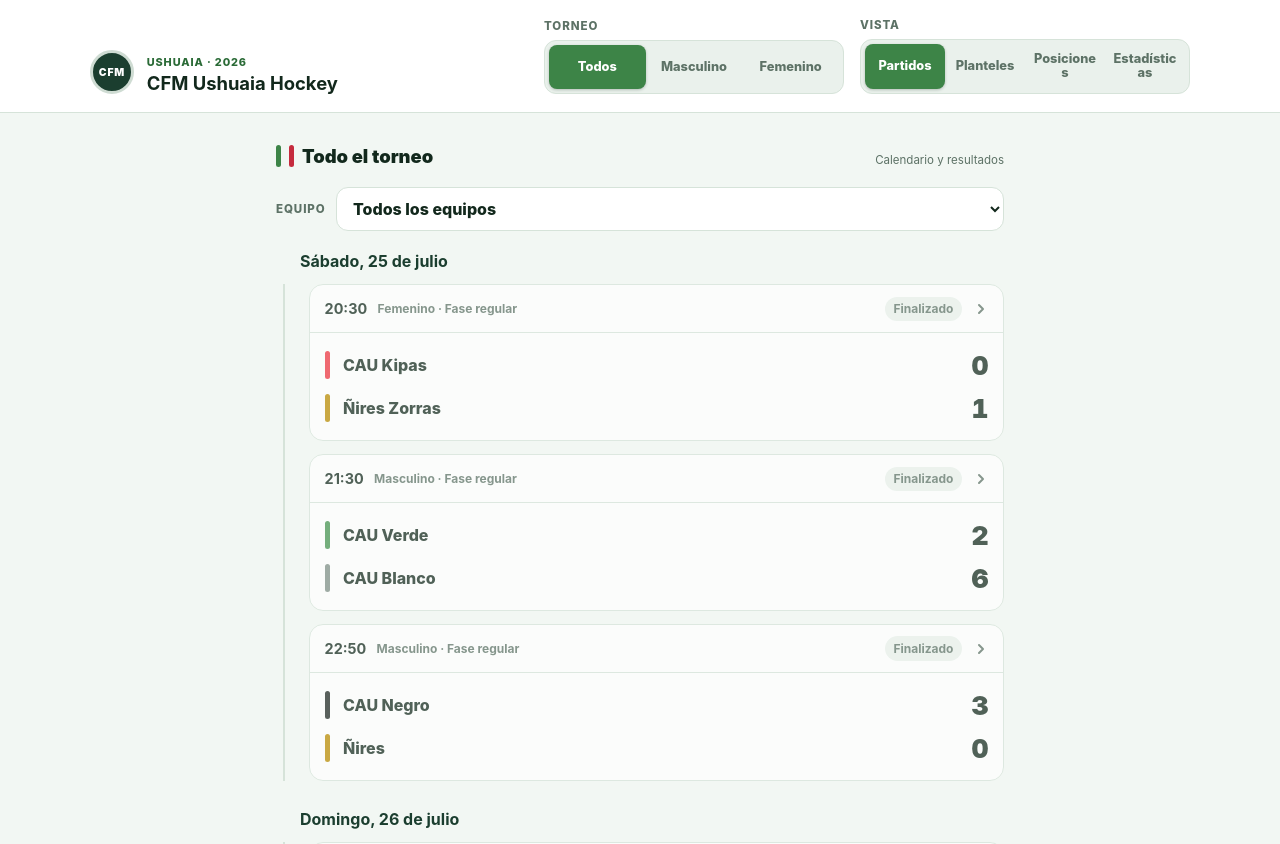
Test: App › when a single tournament is selected › should drop the tournament label from every match
Click the button "Femenino": (791, 67) x1=742 y1=45 x2=839 y2=89
(page scrolled)
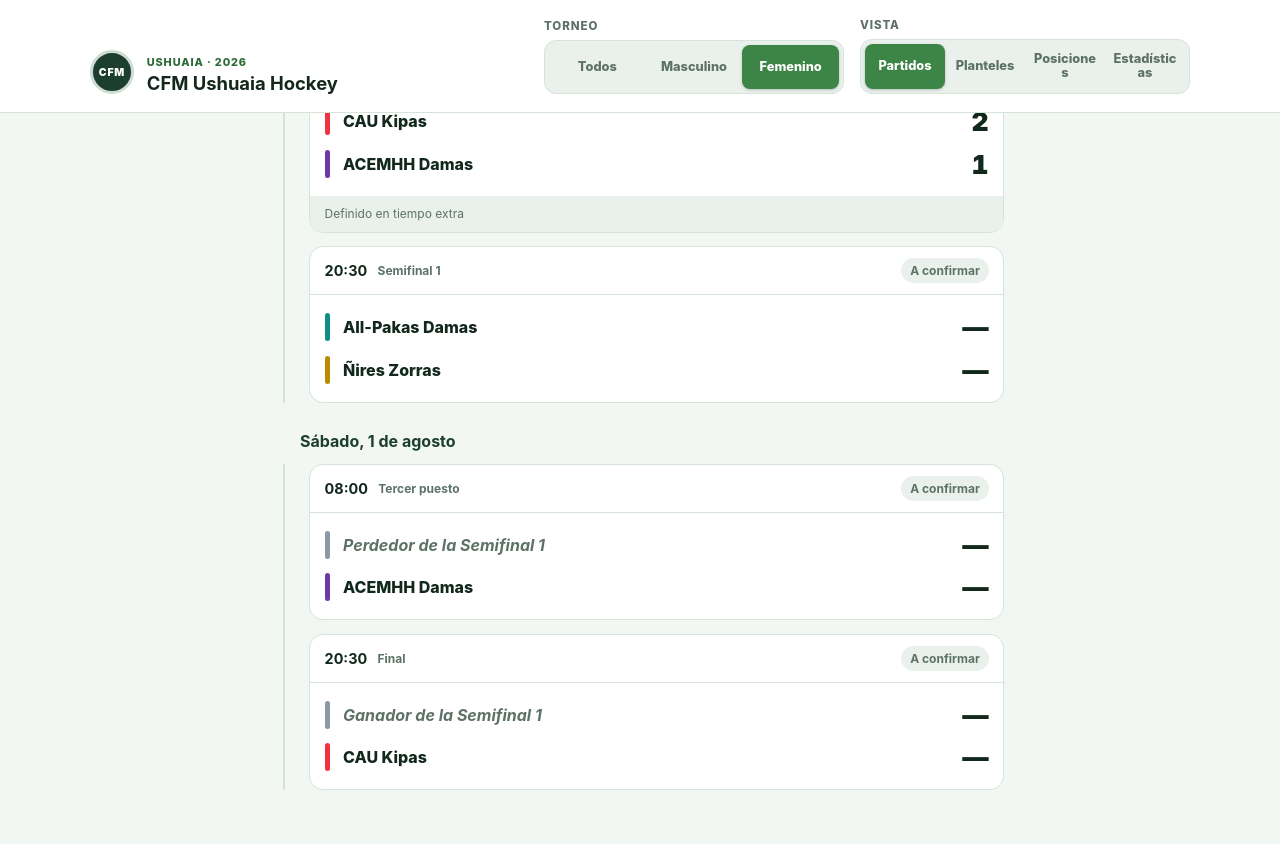
Result: the button "Masculino ·" is gone
